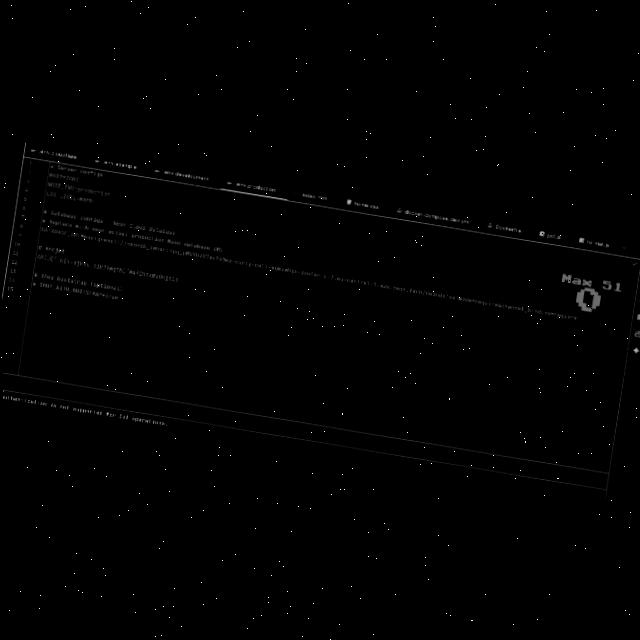code_screen: (41, 170, 577, 320), (33, 244, 218, 300)
